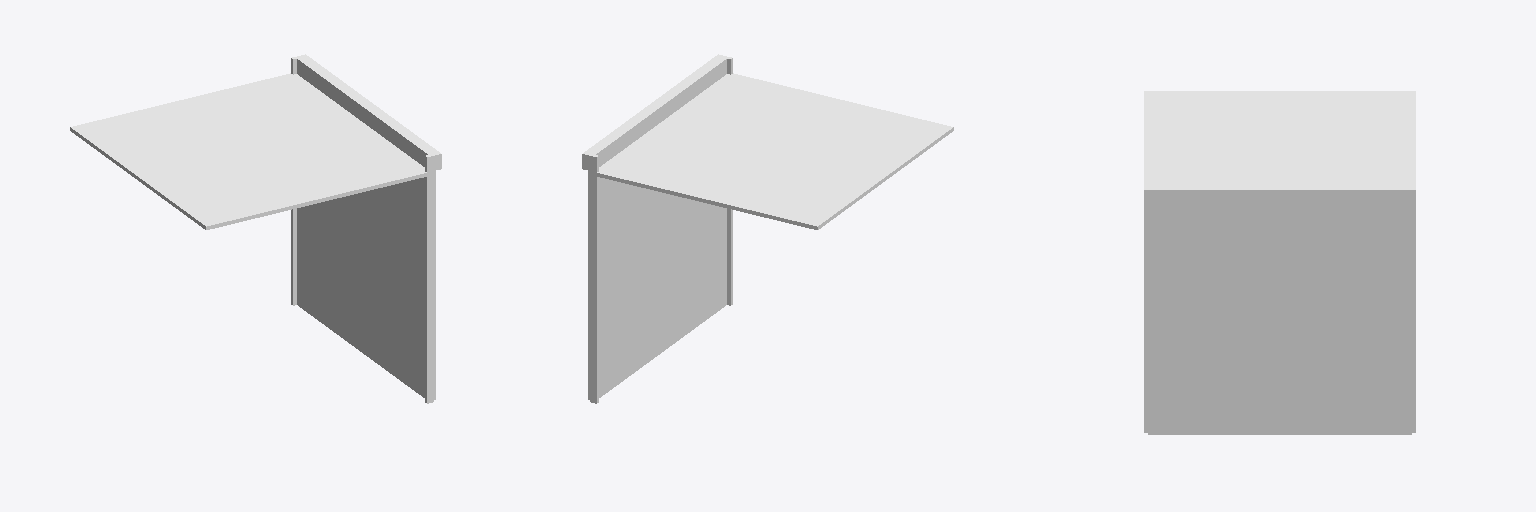
Rendered from modern_glass_wall_t.obj.
3 views of the same model, side by side, from view 1: azimuth 30°, elevation 25°; view 2: azimuth 150°, elevation 25°; view 3: azimuth 270°, elevation 25° (orthographic).
Bounding box in the file's own units: 64 × 64 × 64.